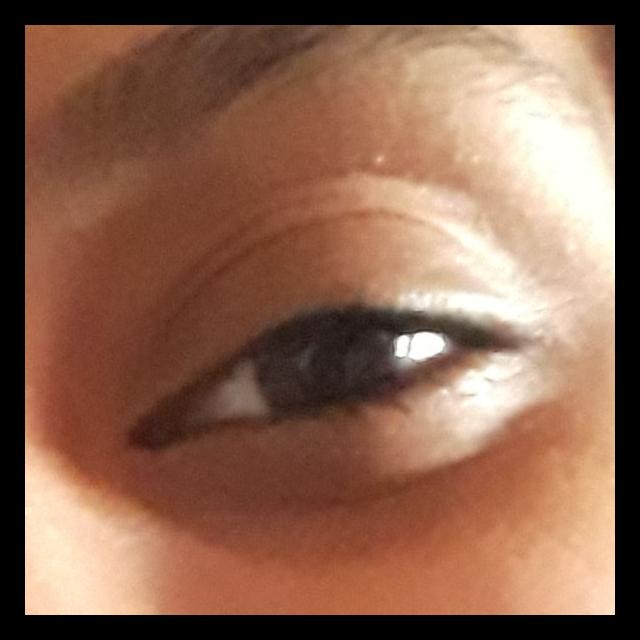eye: (181, 322, 488, 420)
iris: (255, 321, 408, 413)
